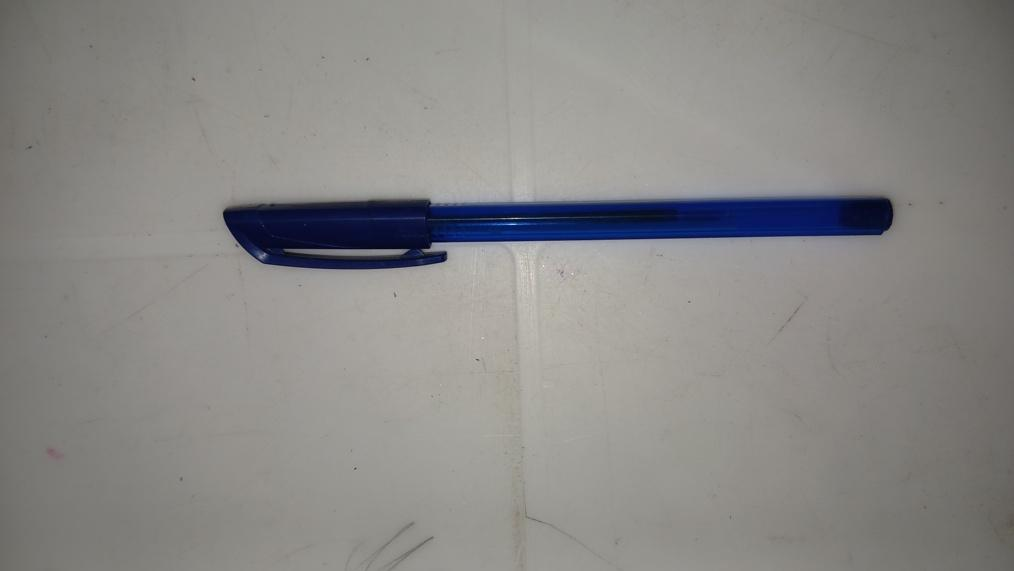pen: (220, 196, 890, 274)
